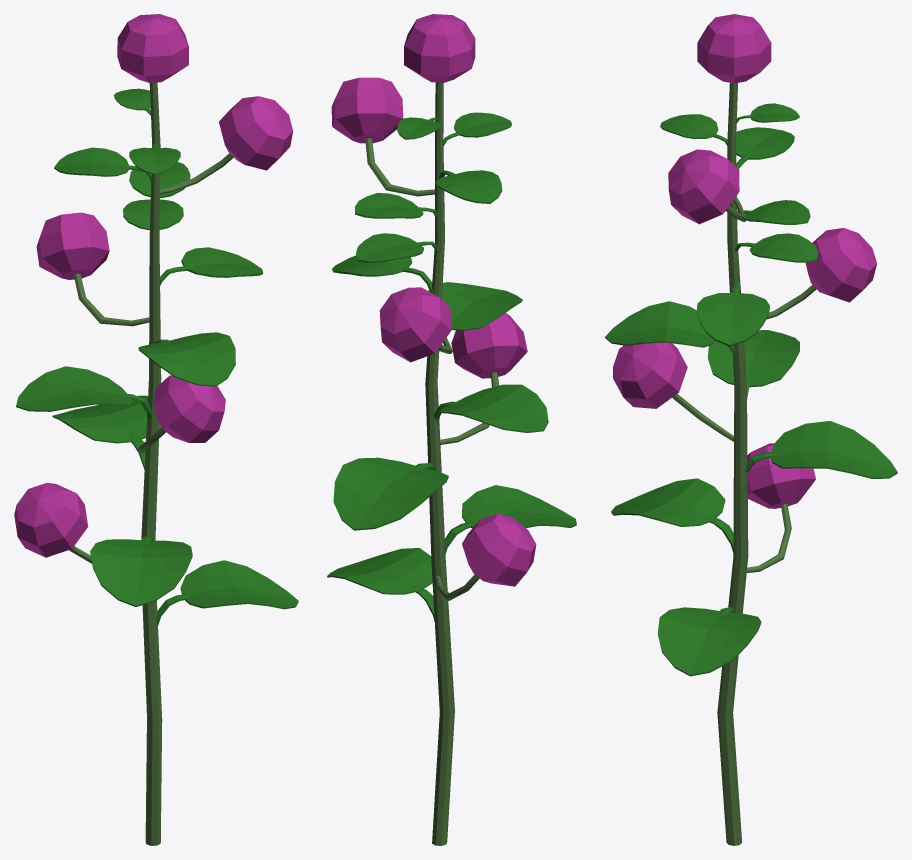
The model's file is Blossom_1.fbx.
3 views of the same model, side by side, from view 1: azimuth 30°, elevation 25°; view 2: azimuth 150°, elevation 25°; view 3: azimuth 270°, elevation 25° (orthographic).
Parts seen in each view (by area): view 1: Blossom_1; view 2: Blossom_1; view 3: Blossom_1.
Boxes of the visible parts, bbox=[...] form: Blossom_1: bbox=[14, 14, 298, 845]; Blossom_1: bbox=[327, 14, 576, 845]; Blossom_1: bbox=[605, 14, 897, 845].
Bounding box in the file's own units: 1292 × 4166 × 1341.
